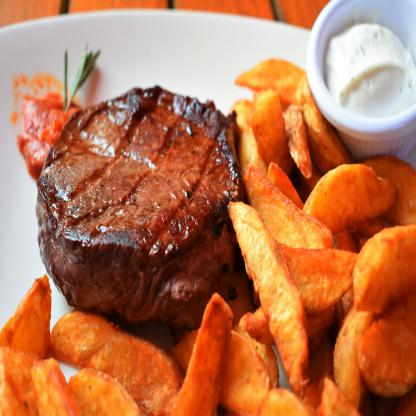Carne: (35, 77, 239, 312)
